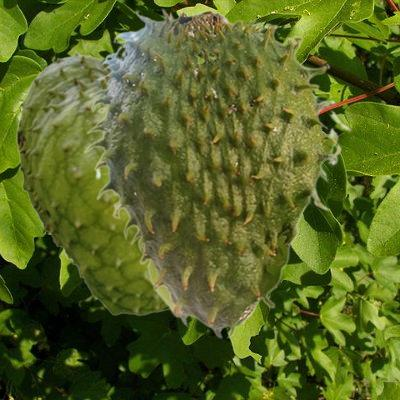guyabano: (83, 8, 351, 338), (16, 49, 168, 315)
